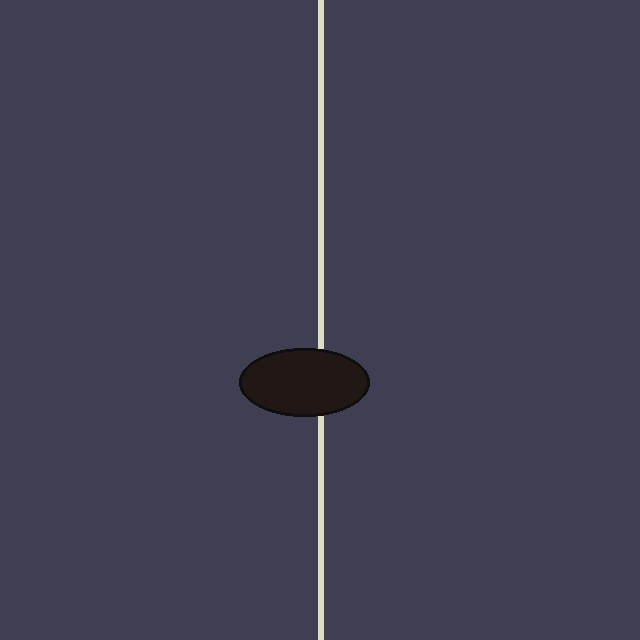pothole: (239, 348, 369, 416)
